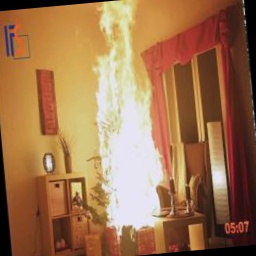fire: (87, 0, 165, 229)
